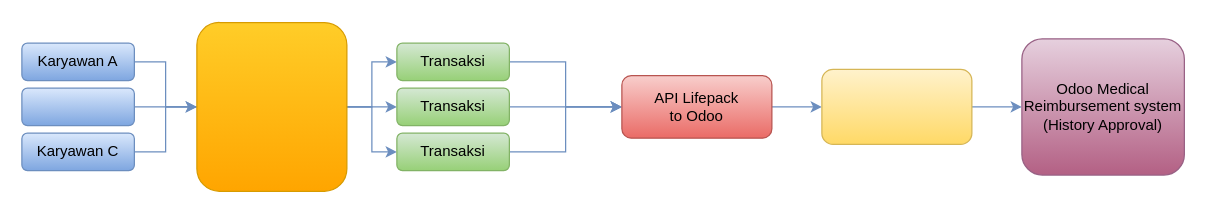
Image size: 1206x213. Some labels were removed from this diagram. The box of each missing label's shape, as (x1, y1, x2, y2) in pixels:
Authentication User HR: (821, 68, 972, 144)
Karyawan B: (21, 87, 134, 126)
Lifepack: (196, 21, 347, 191)
